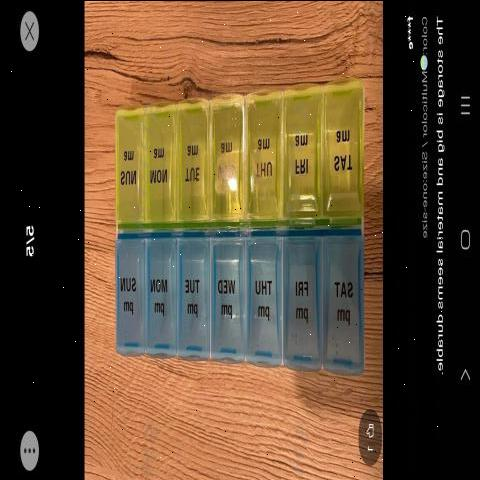PillBox: (90, 80, 378, 390)
